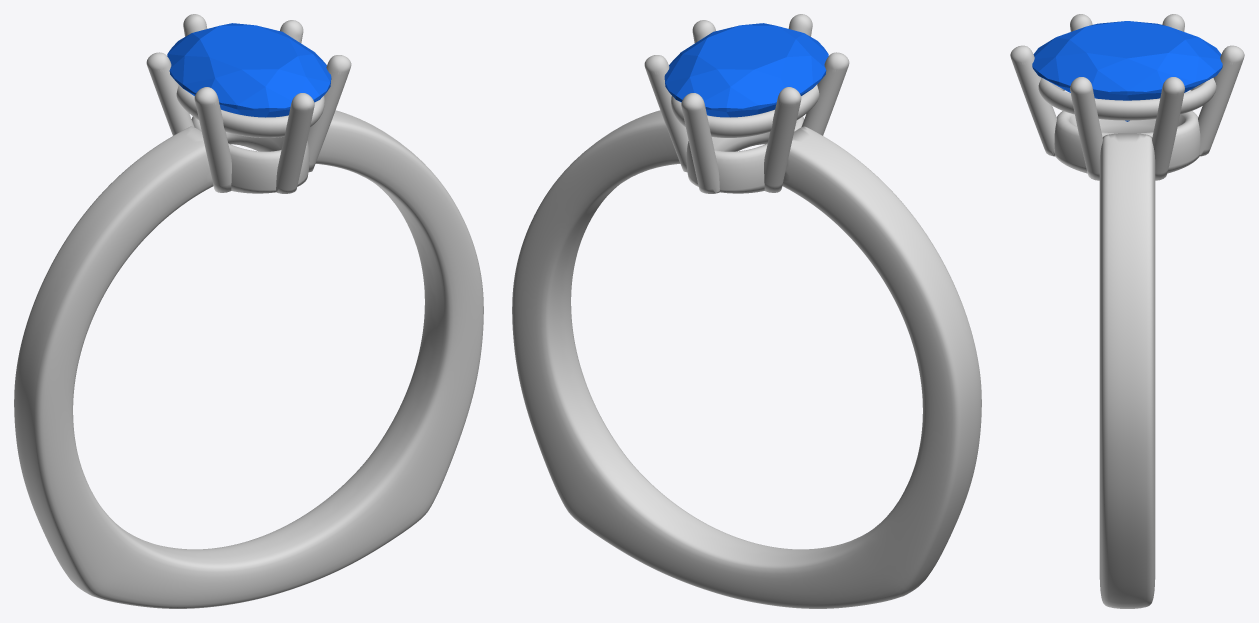
The model's file is bluesapphire-oval-platinum-6prong-europeanshank-nosidestones.glb.
3 views of the same model, side by side, from view 1: azimuth 30°, elevation 25°; view 2: azimuth 150°, elevation 25°; view 3: azimuth 270°, elevation 25° (orthographic). The views are drawn at different scales.
Visible parts, largest first — view 1: metal, stone; view 2: metal, stone; view 3: metal, stone.
Part boxes in pixels (box(x1,y1,x2,y2)): metal: box(14, 14, 483, 608); stone: box(167, 23, 331, 117); metal: box(512, 14, 981, 608); stone: box(664, 23, 828, 117); metal: box(1010, 14, 1244, 608); stone: box(1032, 21, 1222, 121).
Size of the model in its own units: 20.11 by 23.21 by 9.29.
